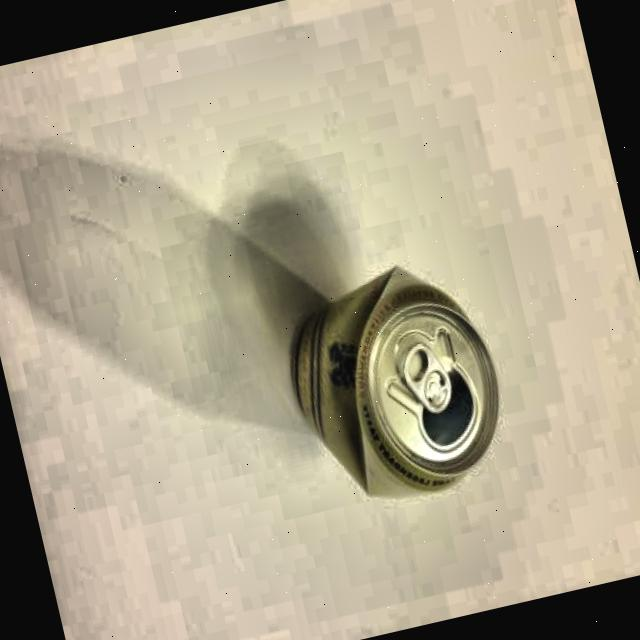metal: (270, 253, 522, 525)
